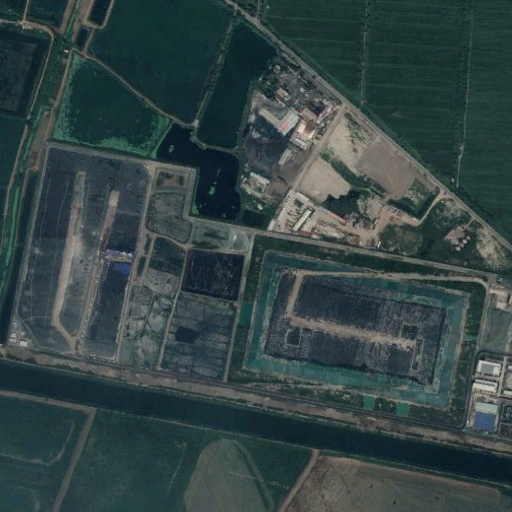lf: (21, 142, 489, 433)
